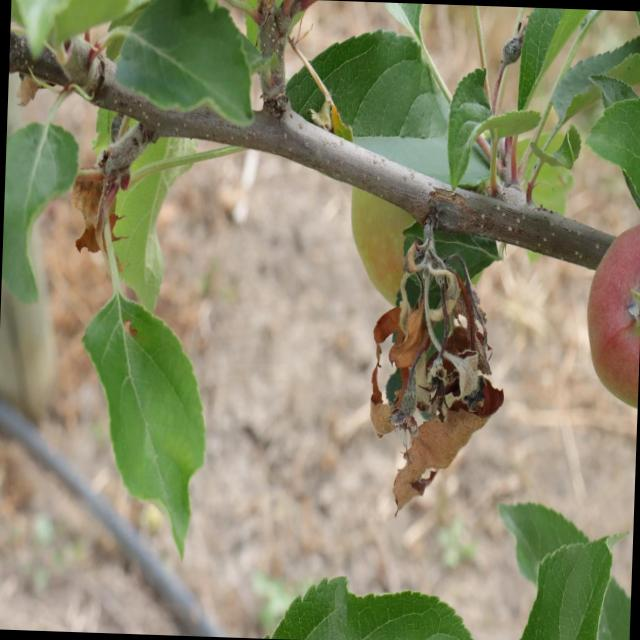-FireBlight-: (349, 222, 503, 518)
